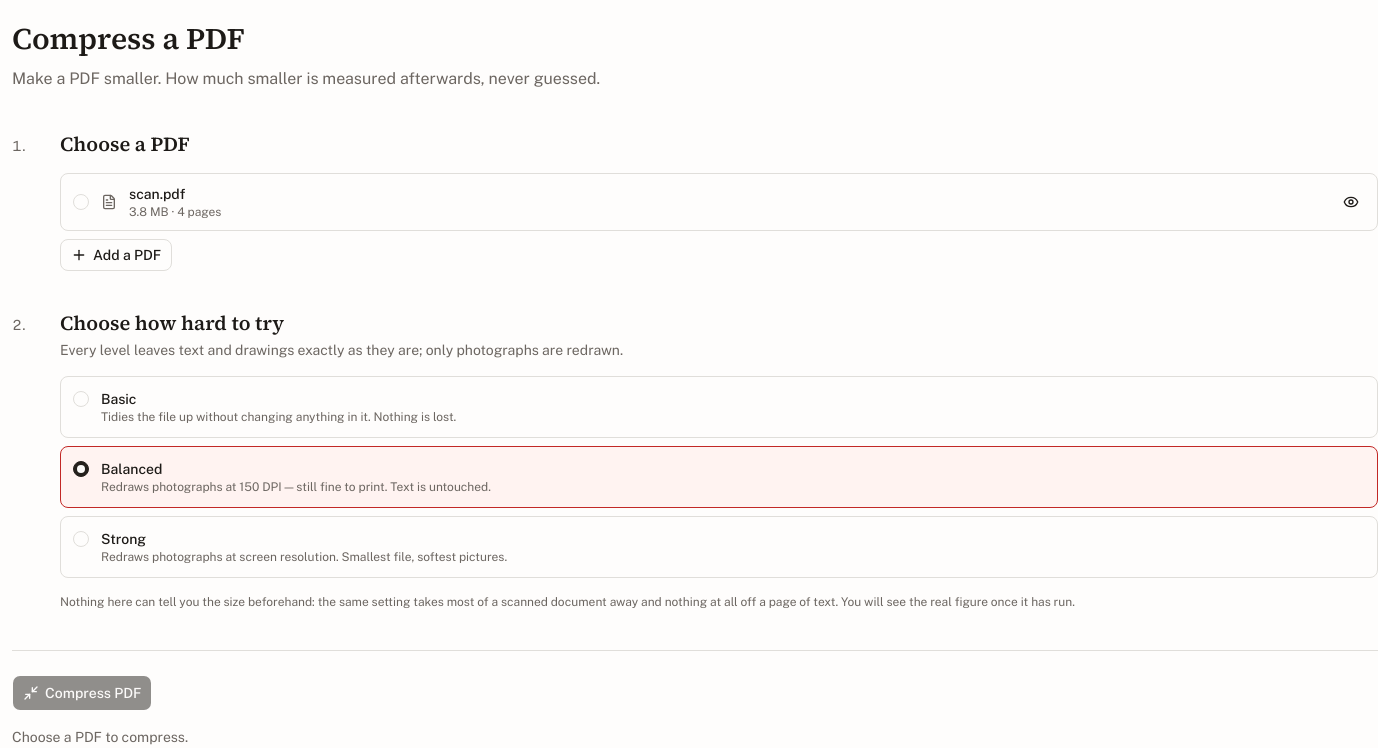
Test: CompressPage › shows no result panel when there was nothing to save
This screenshot has width=1378, height=748.
Click the radio button named "scan.pdf" next to "scan.pdf" at (81, 202), box [73,194,89,210]
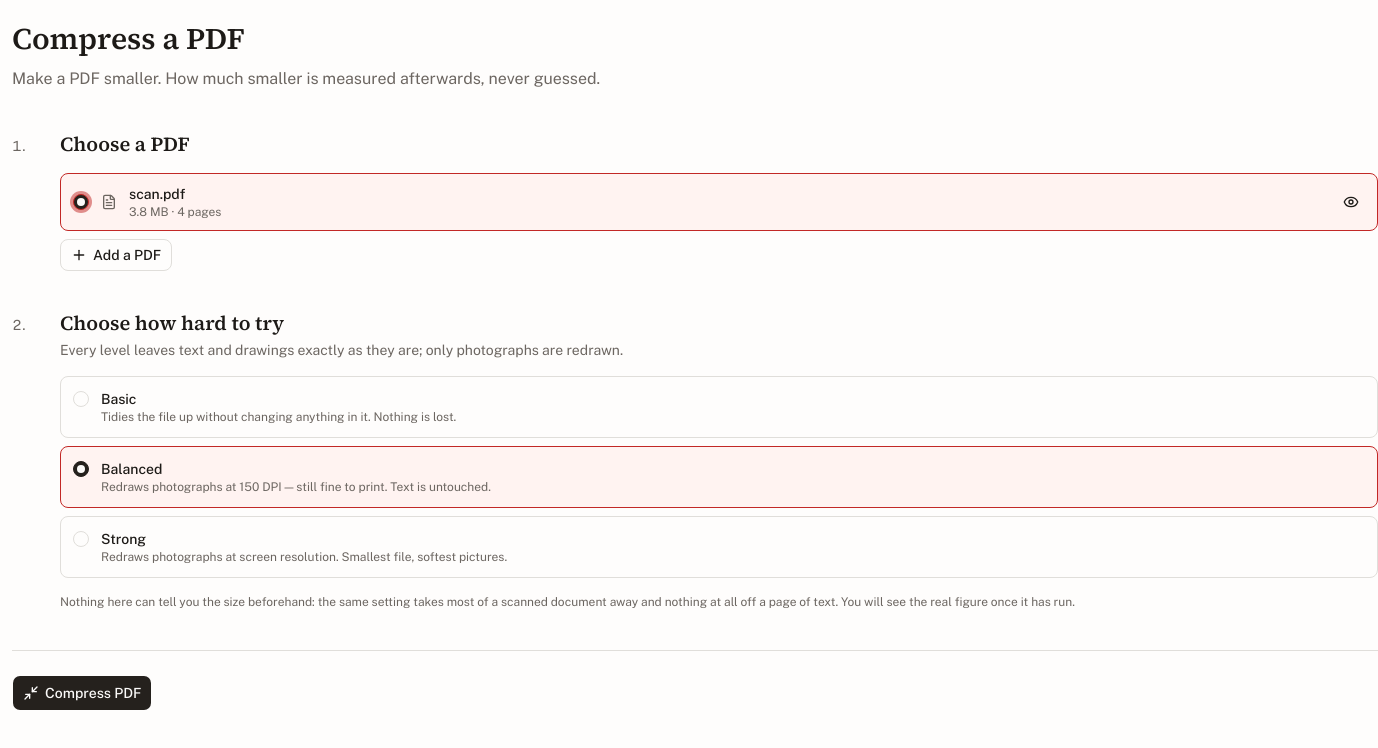
Click the button "Compress PDF" at (82, 692), box [12,674,152,710]
(page scrolled)
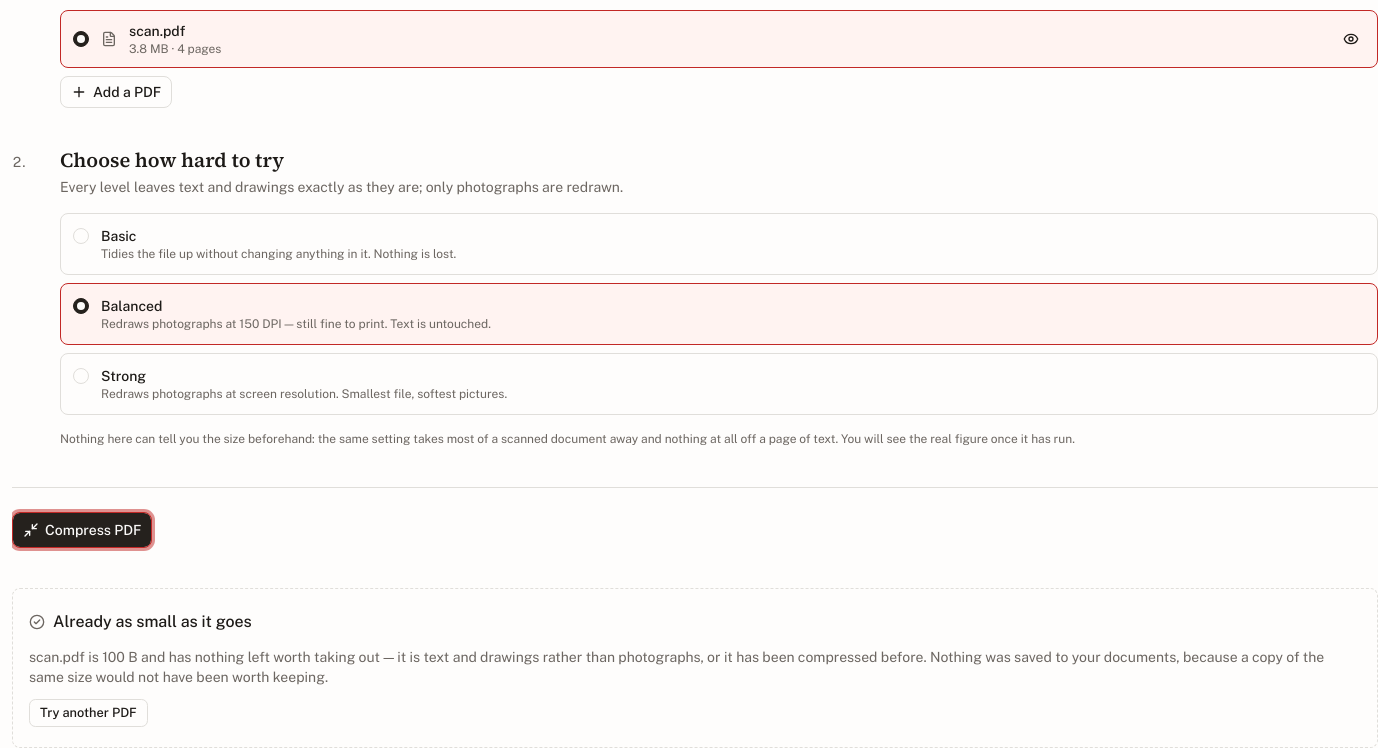
Now the text "Already as small as it goes" is shown, box [29,612,252,630]
